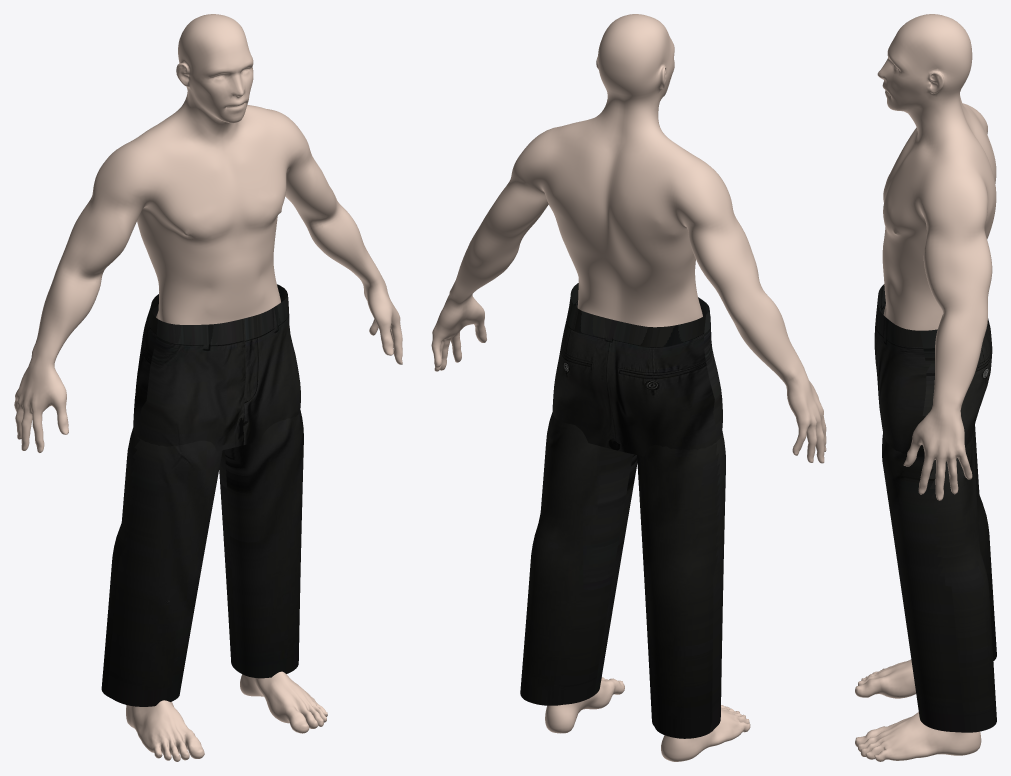
3 views of the same model, side by side, from view 1: azimuth 30°, elevation 25°; view 2: azimuth 150°, elevation 25°; view 3: azimuth 270°, elevation 25° (orthographic).
Parts seen in each view (by area): view 1: human, garment.pants; view 2: garment.pants, human; view 3: human, garment.pants.
Boxes of the visible parts, <box> form: human: <box>14,14,402,761</box>; garment.pants: <box>101,284,303,706</box>; garment.pants: <box>520,283,725,738</box>; human: <box>431,14,826,761</box>; human: <box>855,14,996,761</box>; garment.pants: <box>874,284,996,732</box>.
Bounding box in the file's own units: 1.01 × 1.8 × 0.3283.
2 materials, 1 textured.
